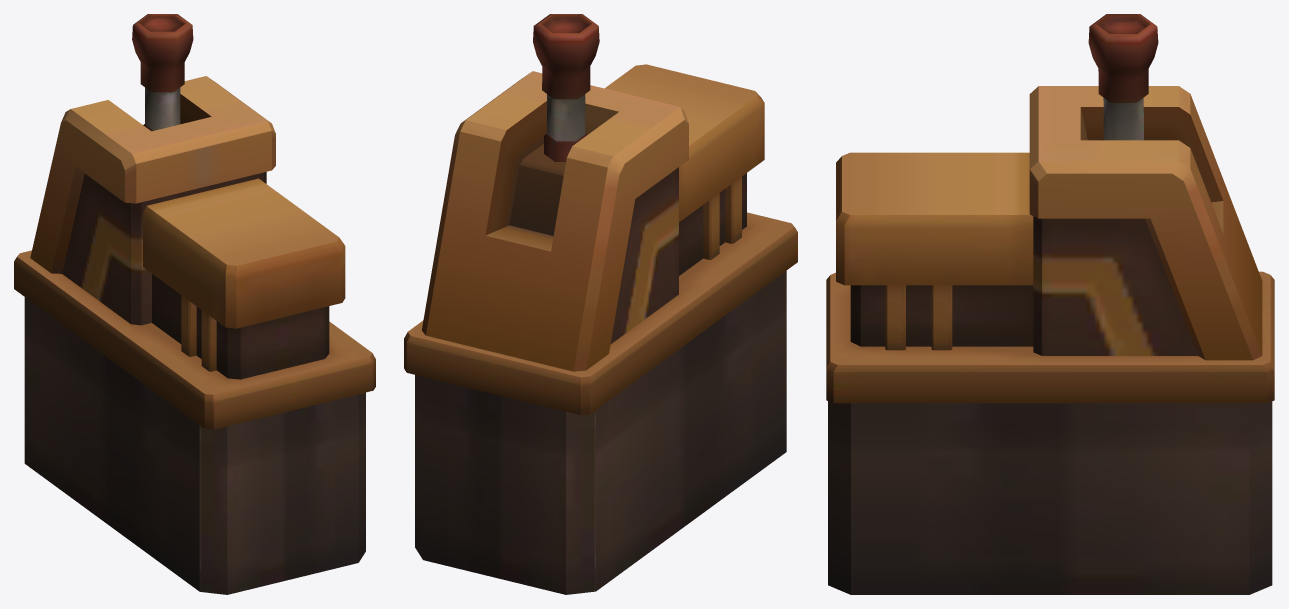
The model's file is wall_railSide_L.fbx.
3 renders of one model, left to right at view 1: azimuth 30°, elevation 25°; view 2: azimuth 150°, elevation 25°; view 3: azimuth 270°, elevation 25°, orthographic. The views are drawn at different scales.
Parts seen in each view (by area): view 1: wall_railSide_L, lever_up; view 2: wall_railSide_L, lever_up; view 3: wall_railSide_L, lever_up.
Boxes of the visible parts, box(x1,y1,x2,y2) form: wall_railSide_L: box(14, 76, 375, 594); lever_up: box(132, 14, 193, 131); wall_railSide_L: box(404, 64, 797, 594); lever_up: box(533, 14, 599, 161); wall_railSide_L: box(826, 86, 1274, 594); lever_up: box(1088, 14, 1158, 140).
Bounding box in the file's own units: 1.01 × 2.6 × 2.01.
